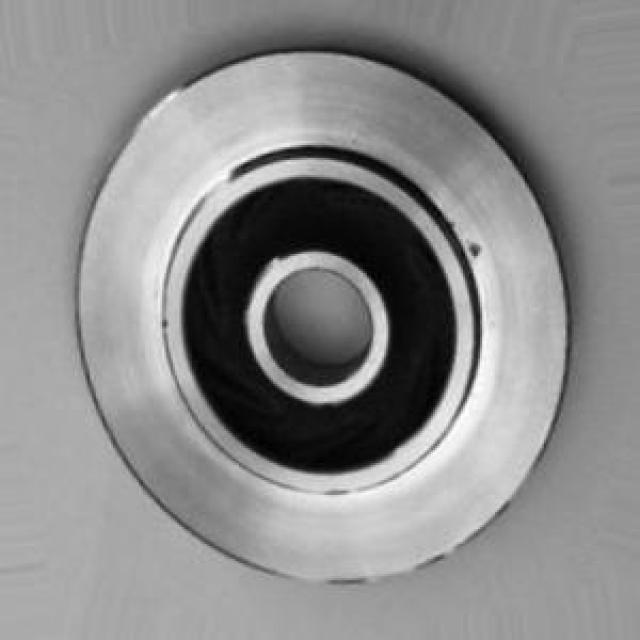Defect: (459, 232, 494, 265)
